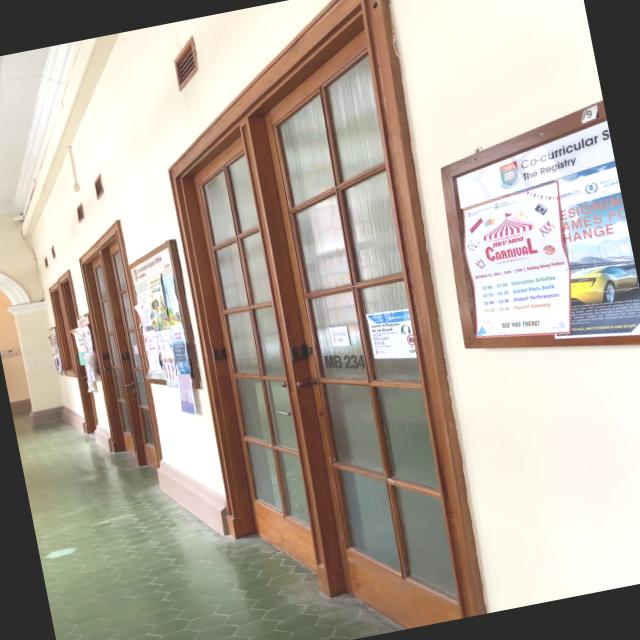room234Window: (316, 344, 368, 378)
